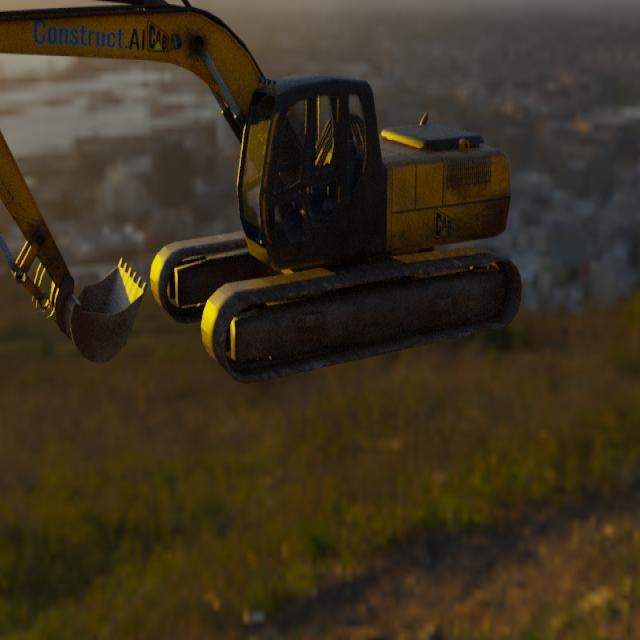excavator: (0, 0, 523, 385)
